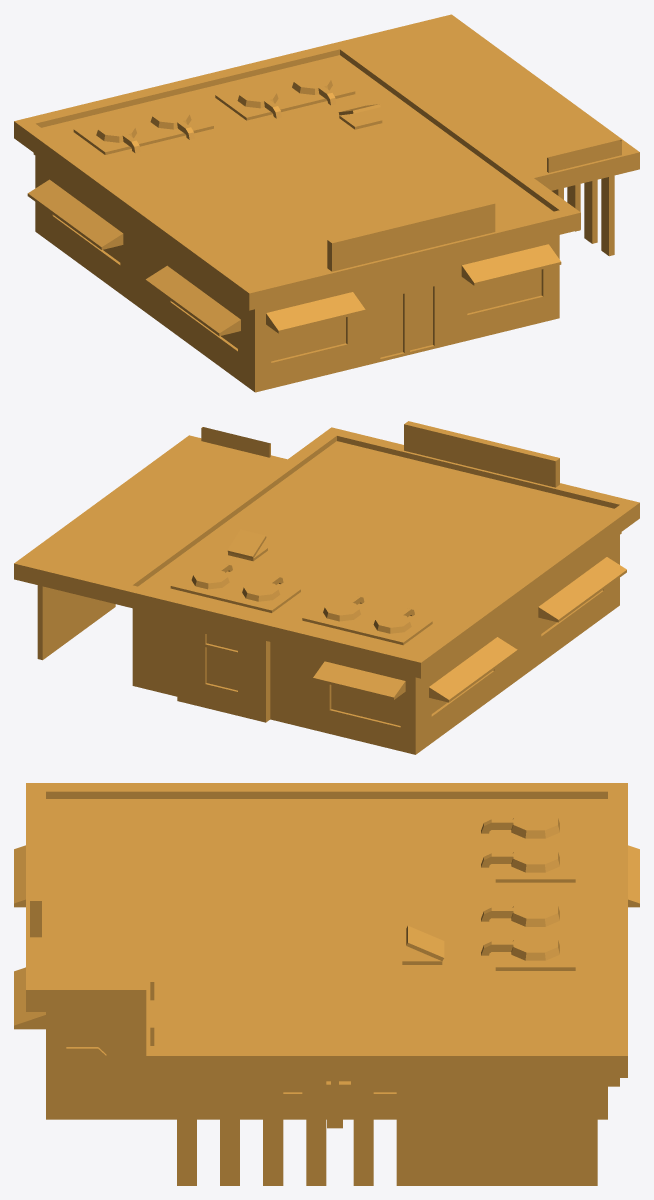
The model's file is building-burger-joint.fbx.
3 renders of one model, top to bottom at view 1: azimuth 30°, elevation 25°; view 2: azimuth 150°, elevation 25°; view 3: azimuth 270°, elevation 25°, orthographic. The views are drawn at different scales.
Parts seen in each view (by area): view 1: building-burger-joint; view 2: building-burger-joint; view 3: building-burger-joint.
Boxes of the visible parts, <box> form: building-burger-joint: <box>14,14,639,392</box>; building-burger-joint: <box>14,421,639,754</box>; building-burger-joint: <box>14,783,639,1185</box>.
Size of the model in its own units: 16.4 by 4.8 by 15.6.
